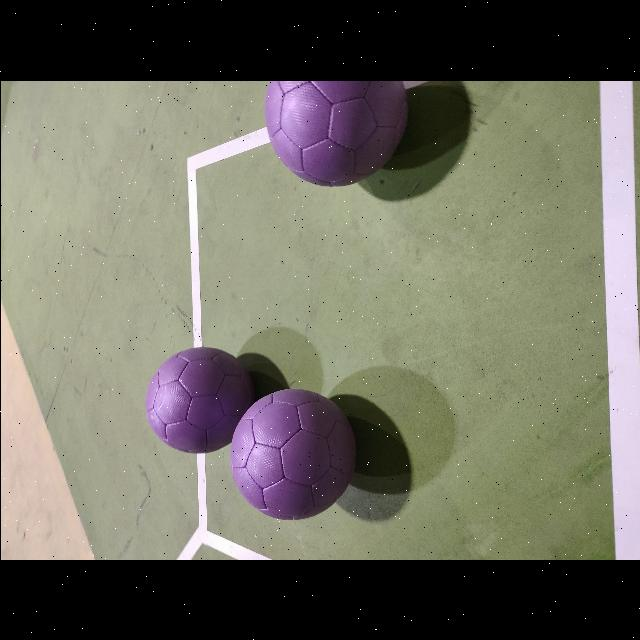P: (228, 389, 354, 519), (264, 80, 406, 186), (146, 346, 254, 452)
